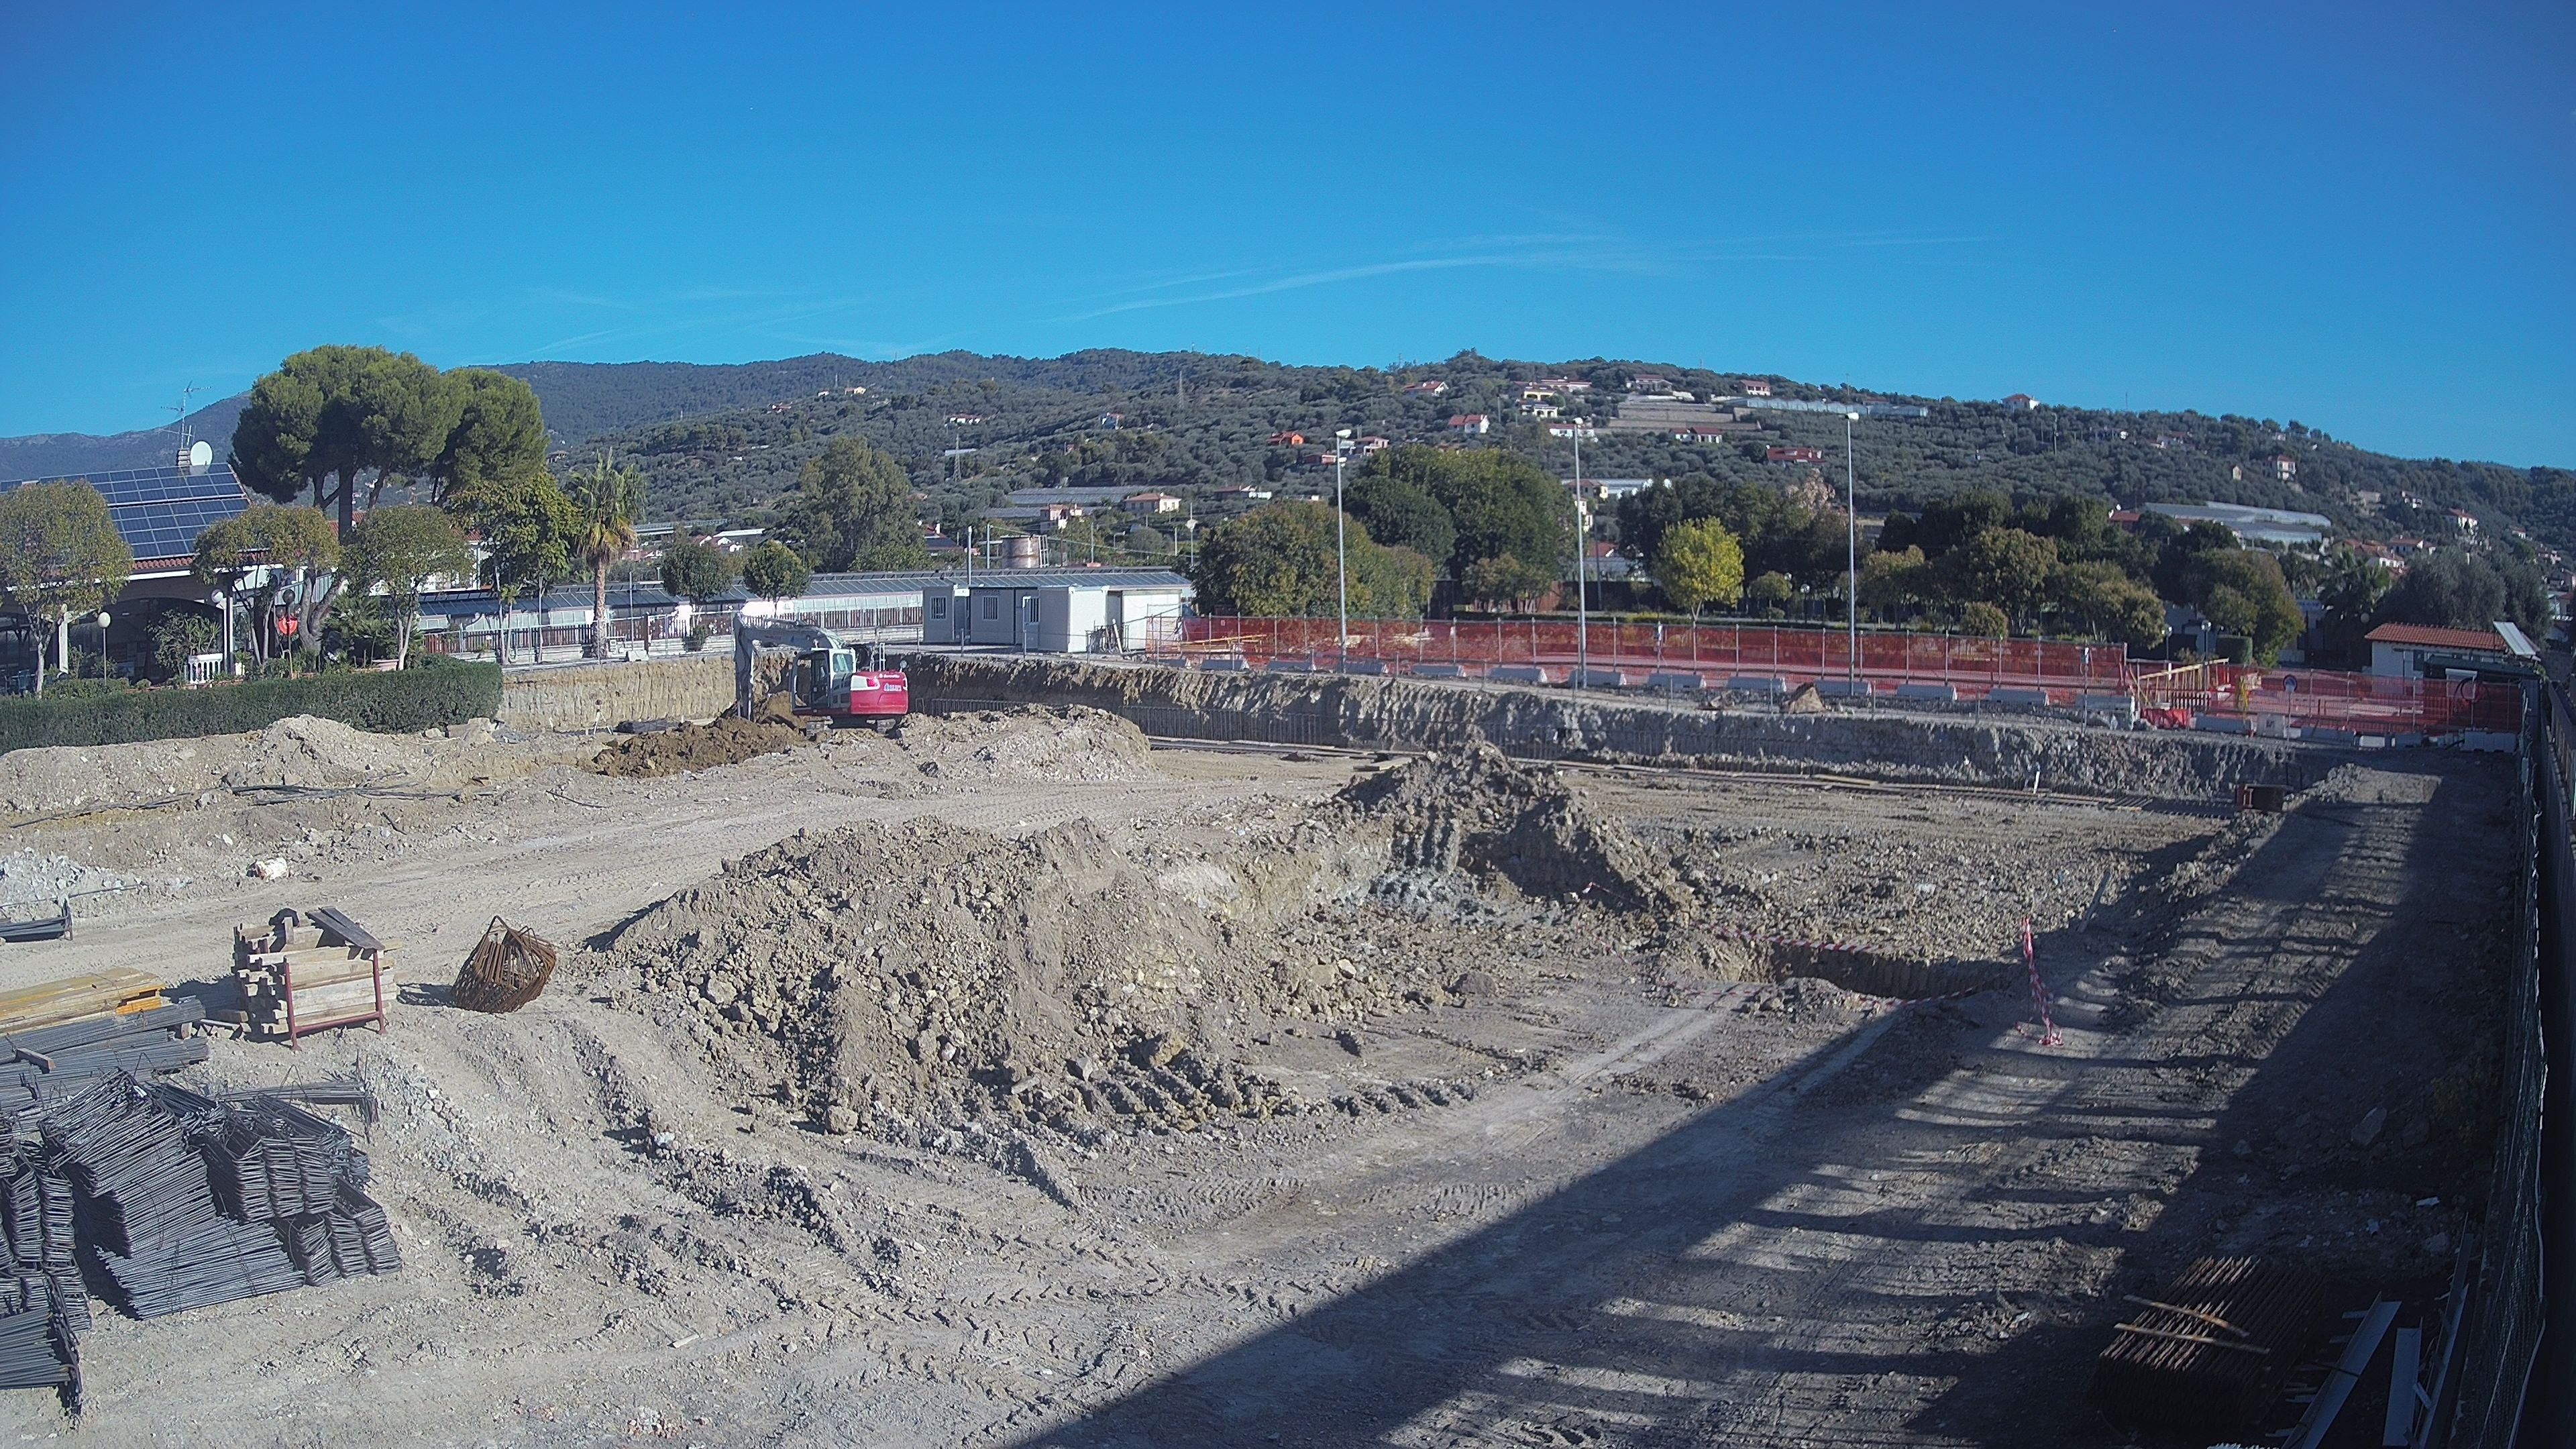excavator: (731, 610, 909, 740)
